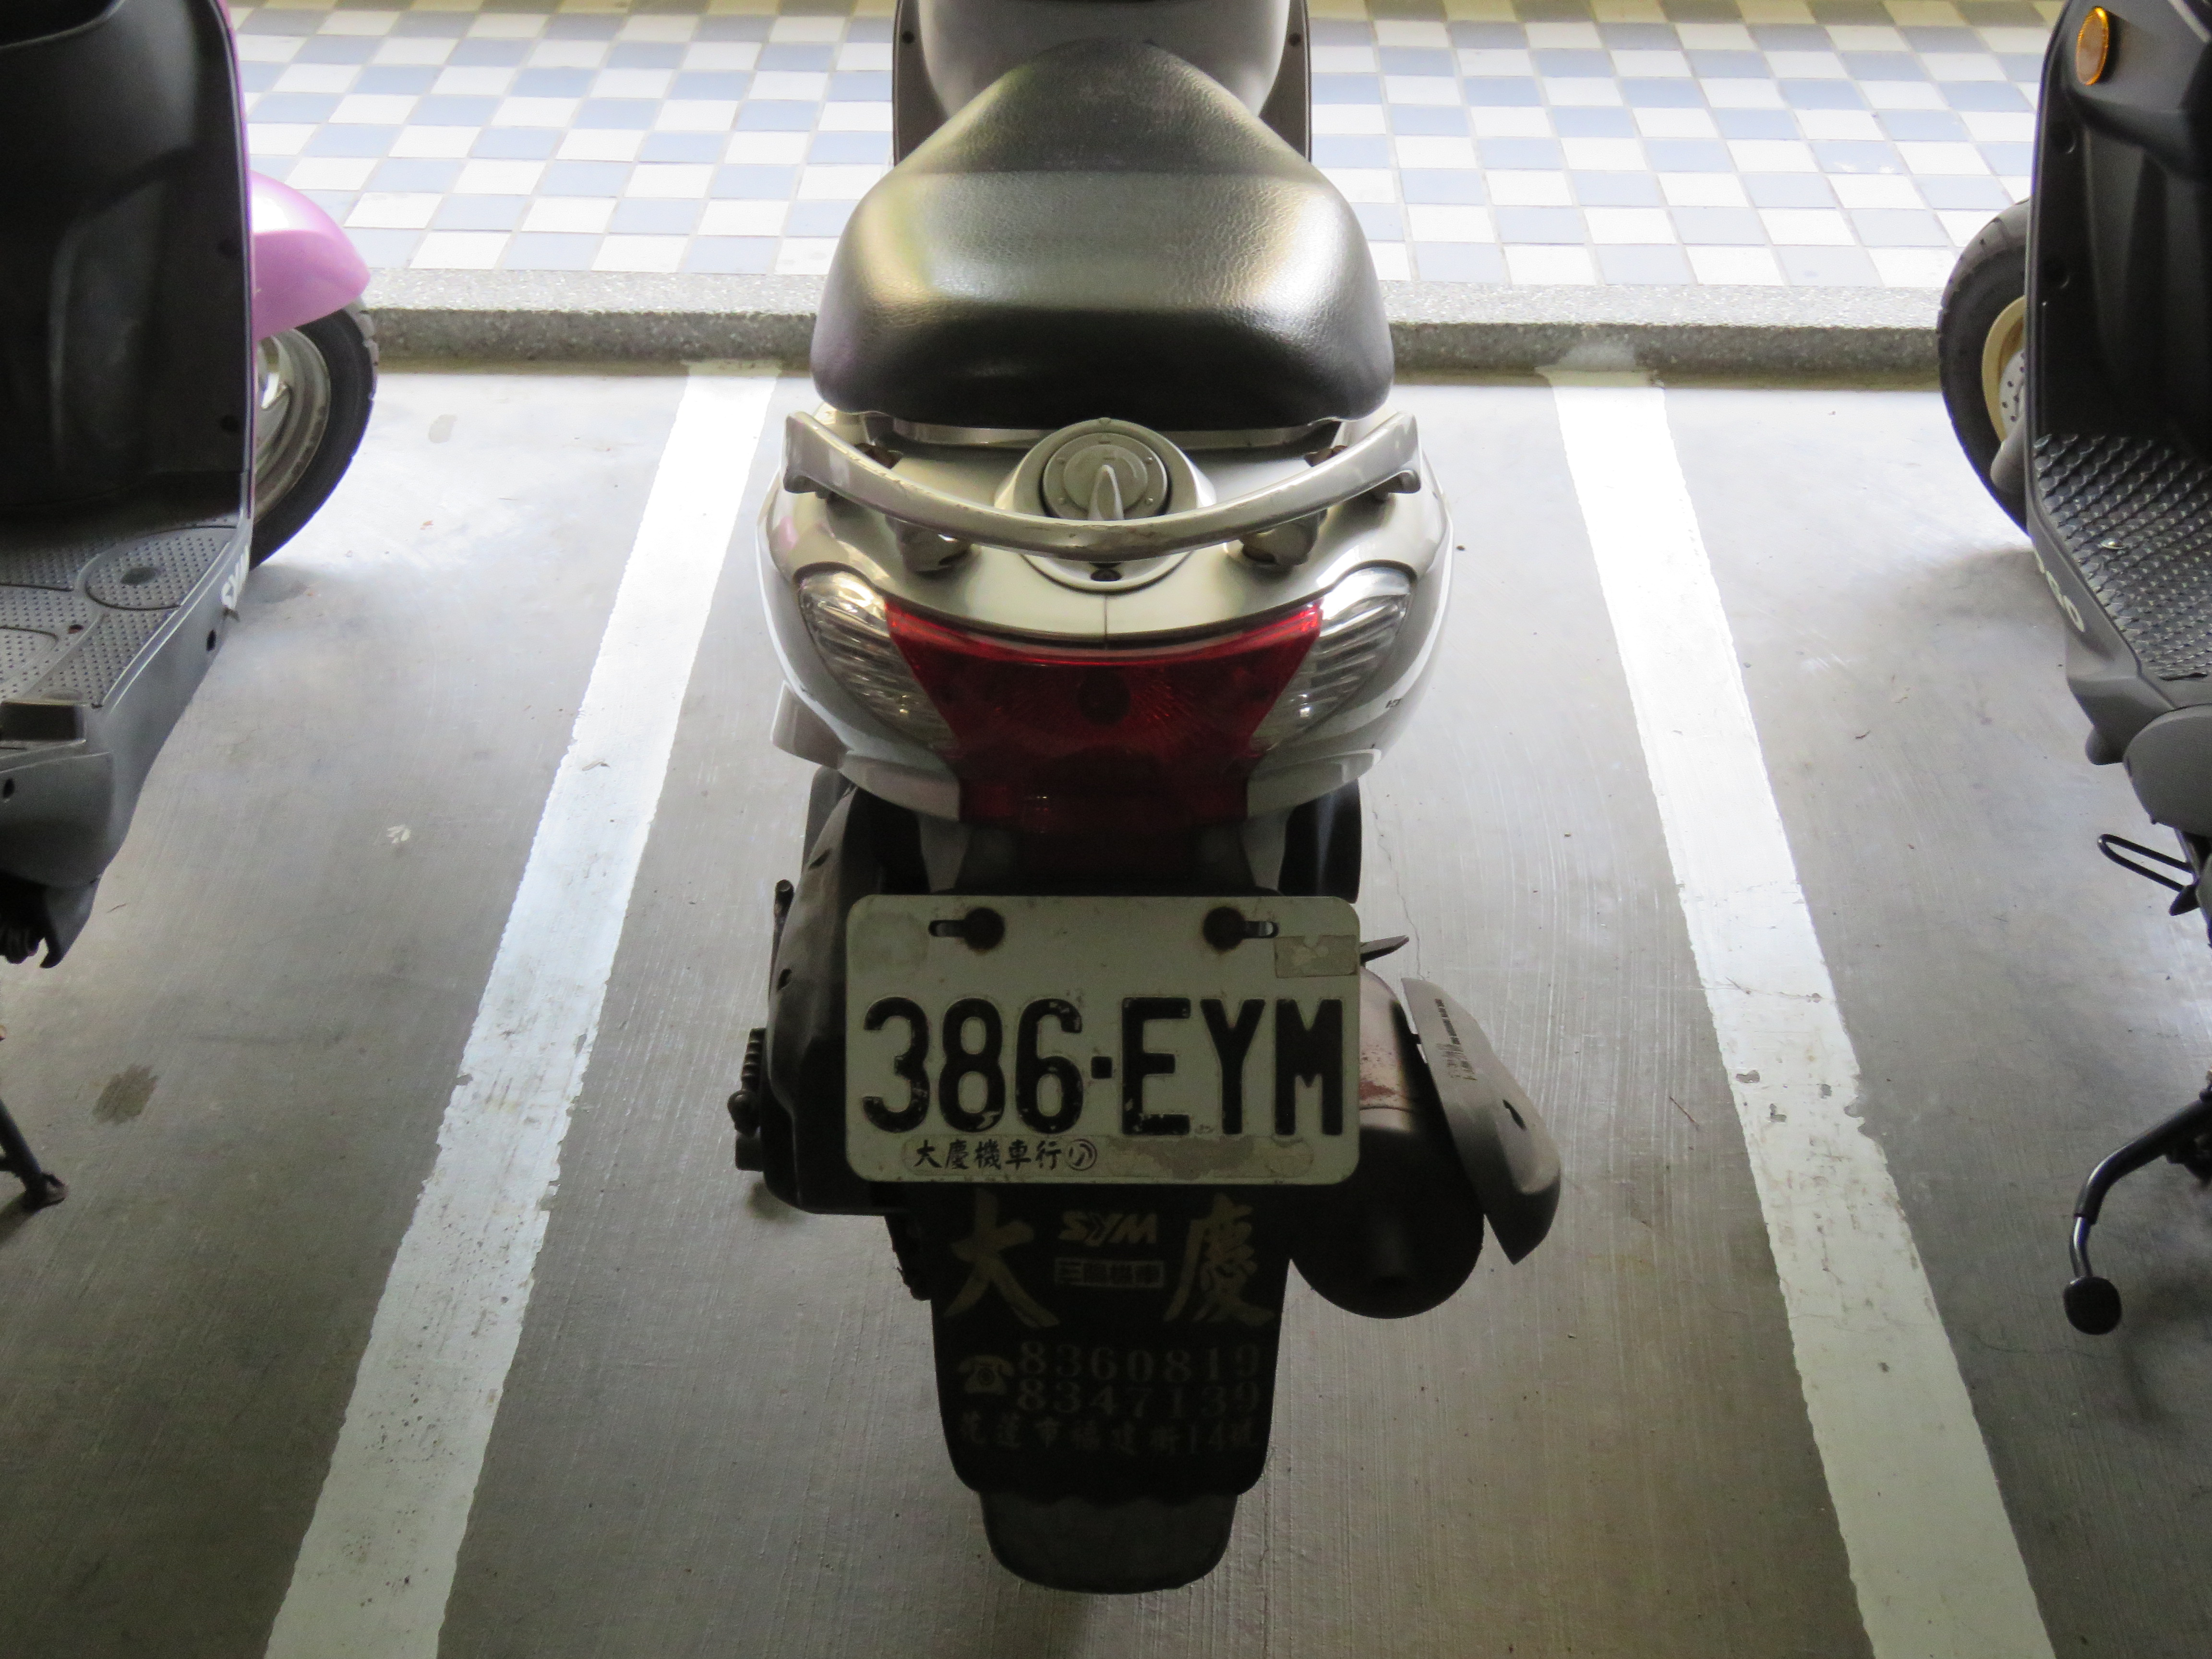car_card: (848, 896, 1350, 1183)
moto: (726, 0, 1454, 1621)
